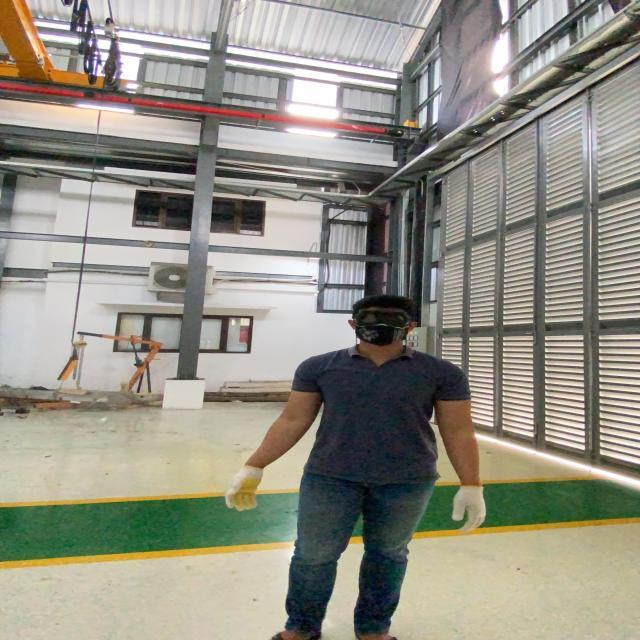glasses: (348, 305, 416, 328)
